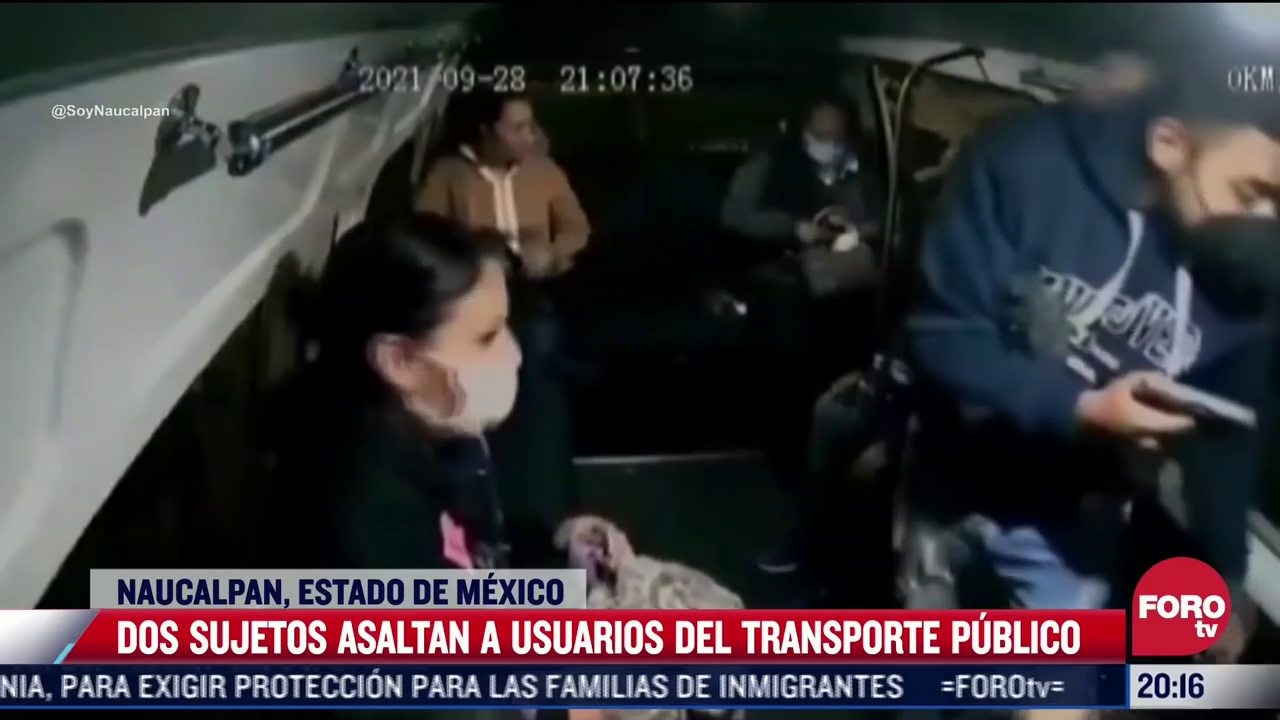pistol: (1134, 372, 1258, 431)
